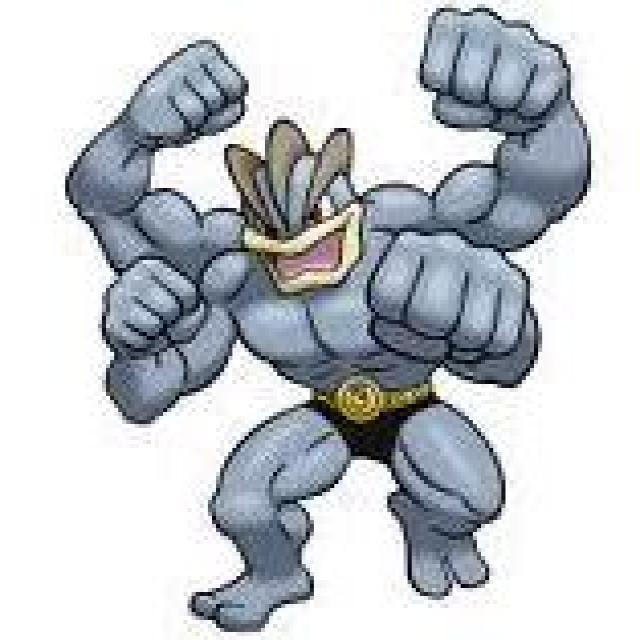Machamp: (89, 60, 543, 610)
